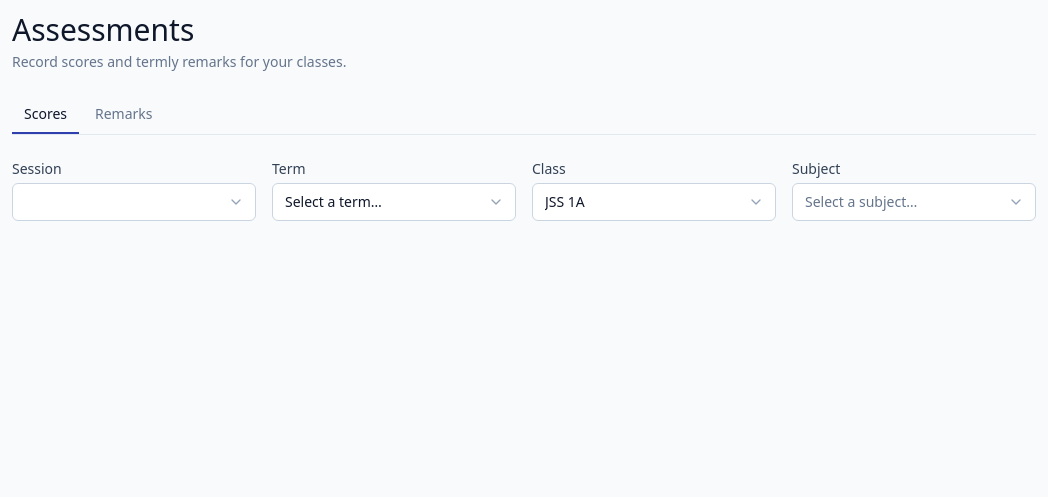
Test case: AssessmentsPage › sections a teacher's subject picker by subject group
Click the dropdown labelled "Subject" at (914, 202), box [792, 183, 1036, 221]
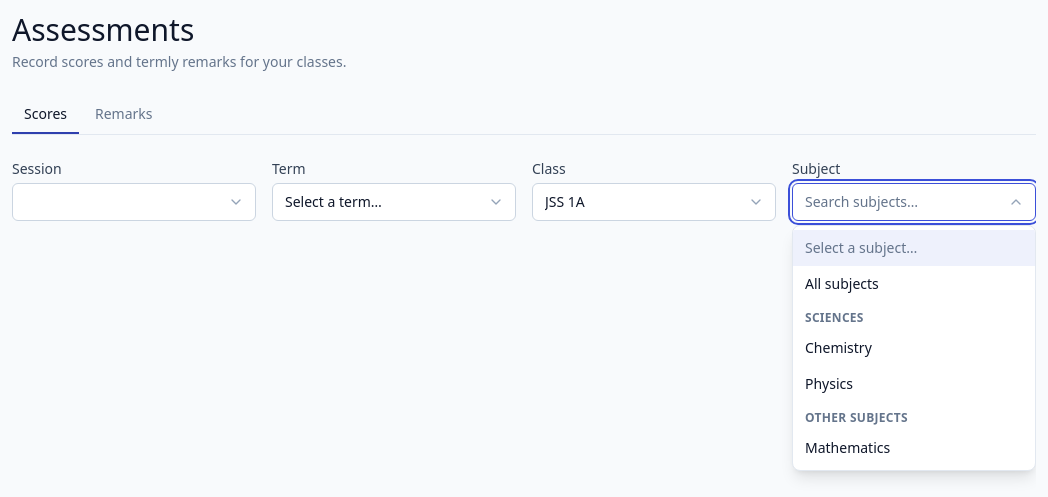
Expected: the options read "Chemistry", "Physics", in this order, [805, 338, 872, 357]; [805, 374, 853, 393]
Expected: the option "Mathematics" is shown, [805, 438, 890, 457]
